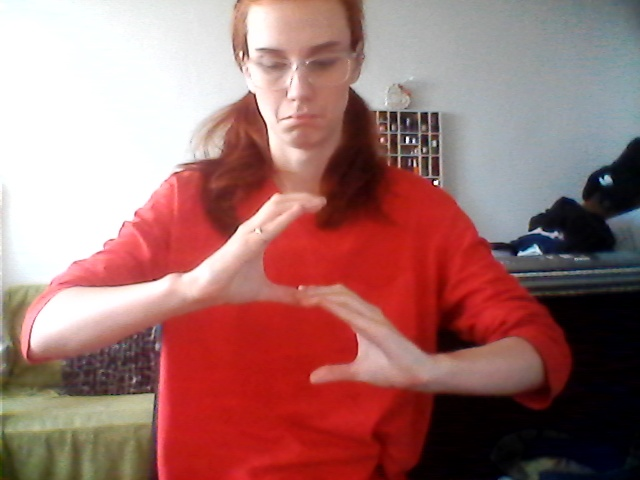s: (205, 177, 426, 409)
